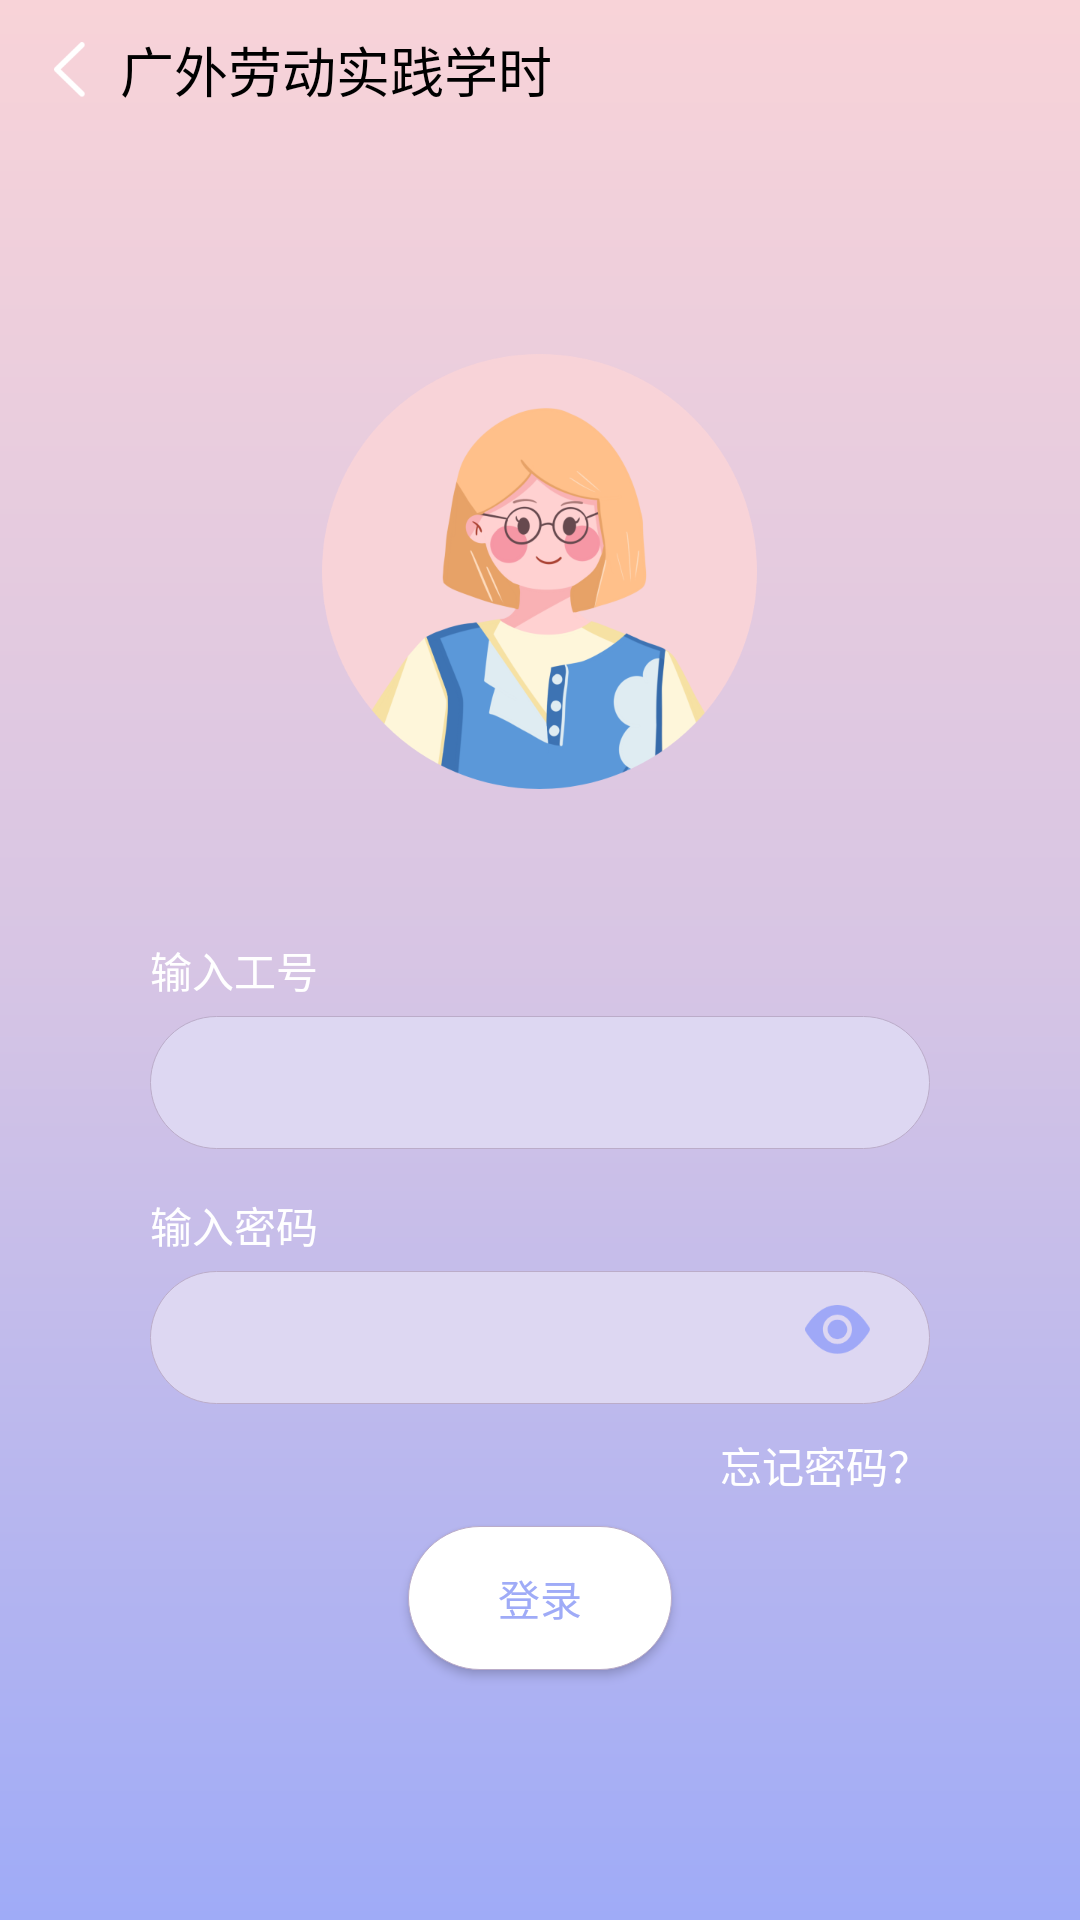

Where icons sit on this 1080*1920 app screen, as (x1, y1, x2, y2):
display pwd: (805, 1305, 870, 1354)
return back: (54, 42, 85, 97)
